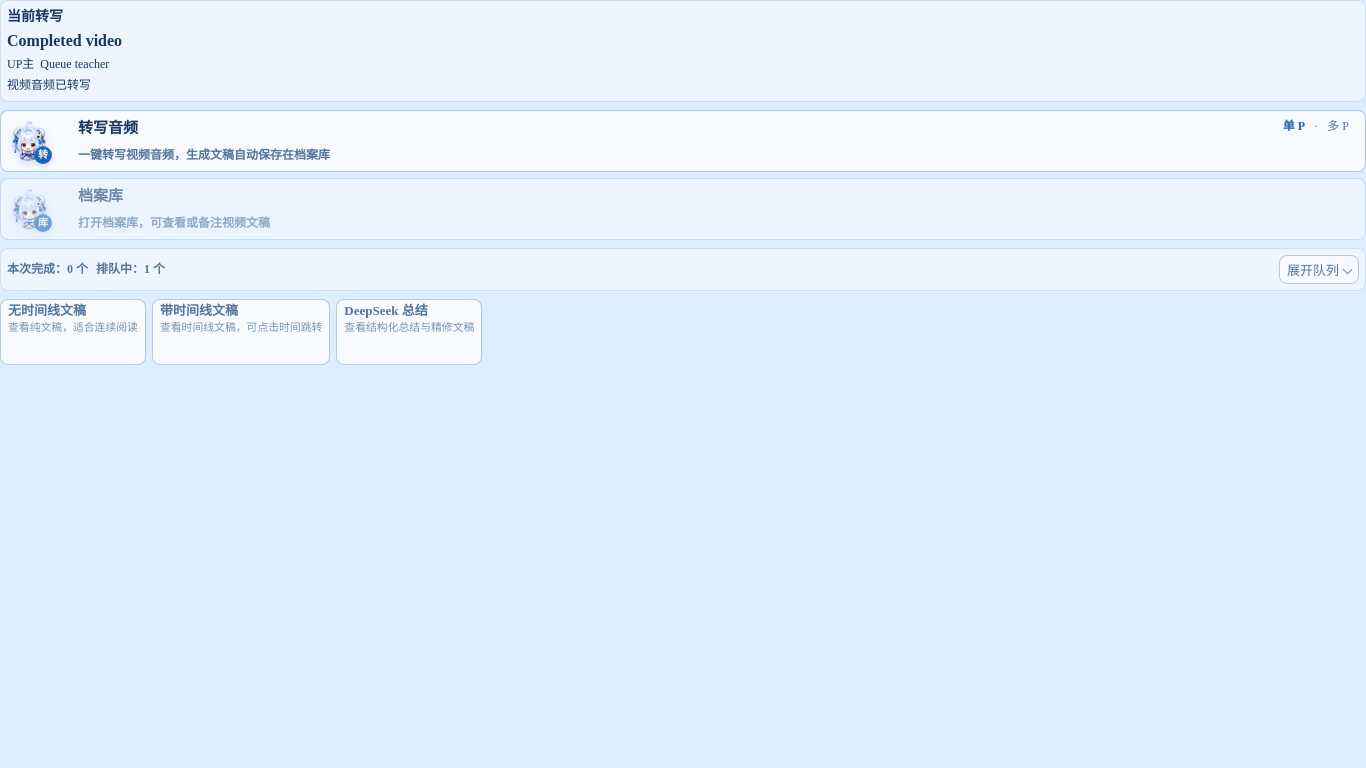
Test: VideoNotesPanel transcription queue › uses the shared video summary menu for queue batch actions and opens the export dialog directly
What coordinates should you click on to do the following:
click the button with aria-label "展开转写队列"
I would click on:
 (1319, 269)
Its box is x1=1279 y1=255 x2=1359 y2=284.
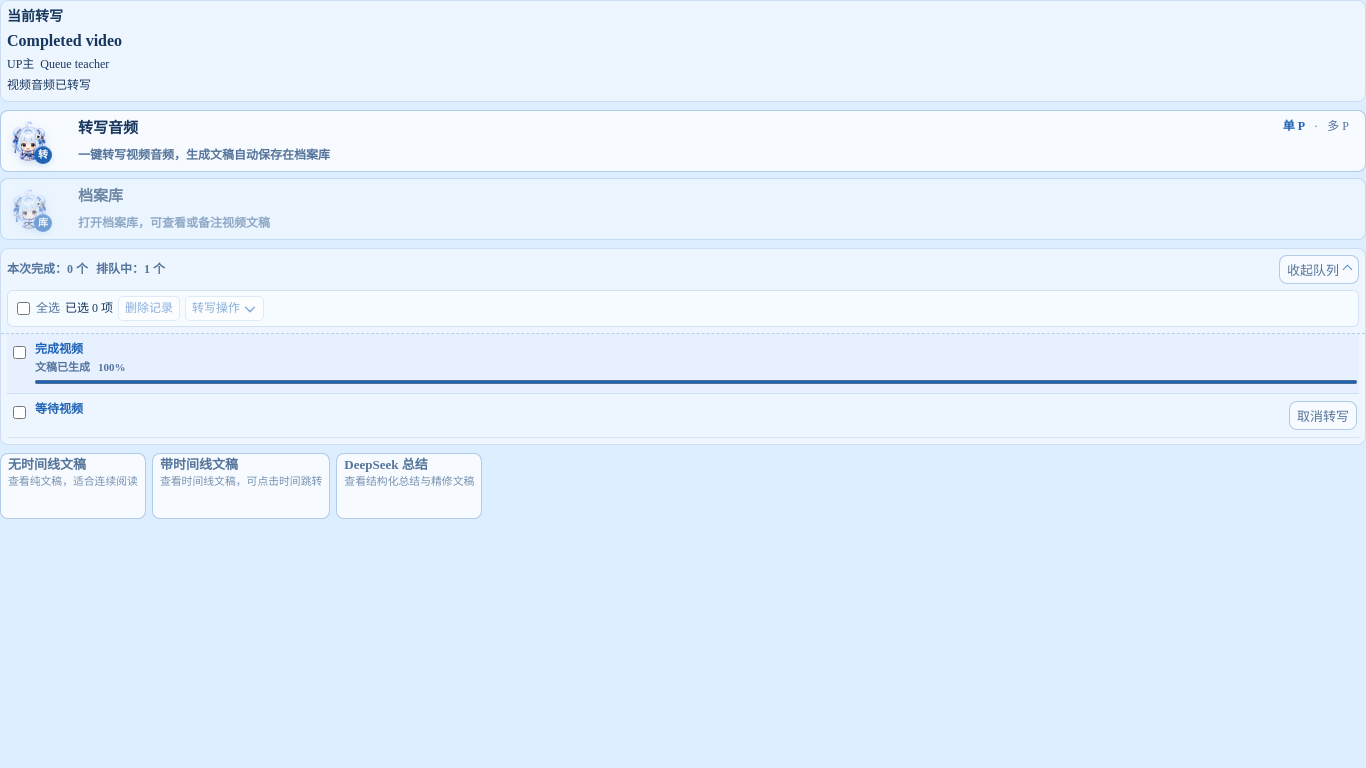
What coordinates should you click on to do the following:
click the checkbox named "选择 等待视频"
I would click on:
 (20, 413)
Its box is x1=13 y1=406 x2=26 y2=419.
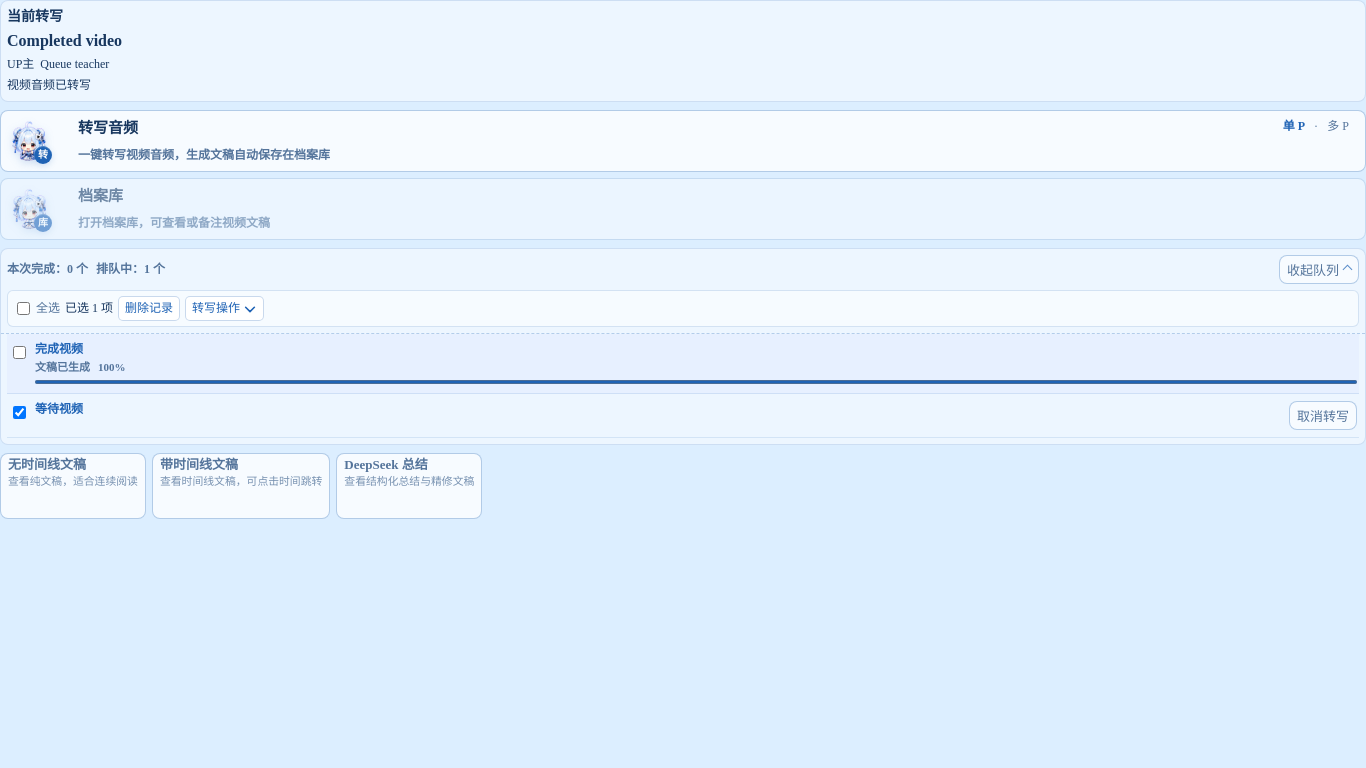
What coordinates should you click on to do the following:
click the checkbox named "选择 完成视频"
I would click on:
 (20, 353)
Its box is x1=13 y1=346 x2=26 y2=359.
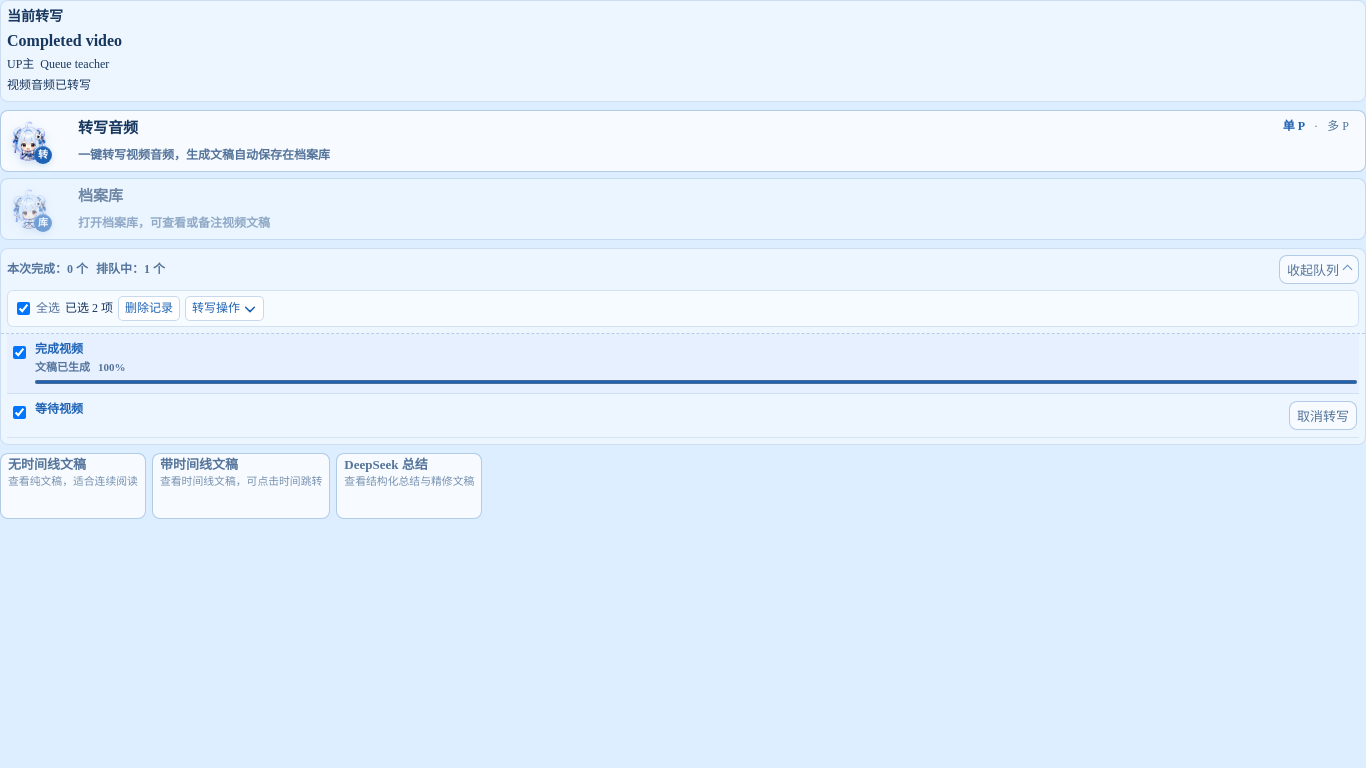
Expected: the button "导出文稿" is not shown
What coordinates should you click on to do the following:
click the button "转写操作"
I would click on:
 (225, 309)
Its box is x1=185 y1=296 x2=264 y2=321.
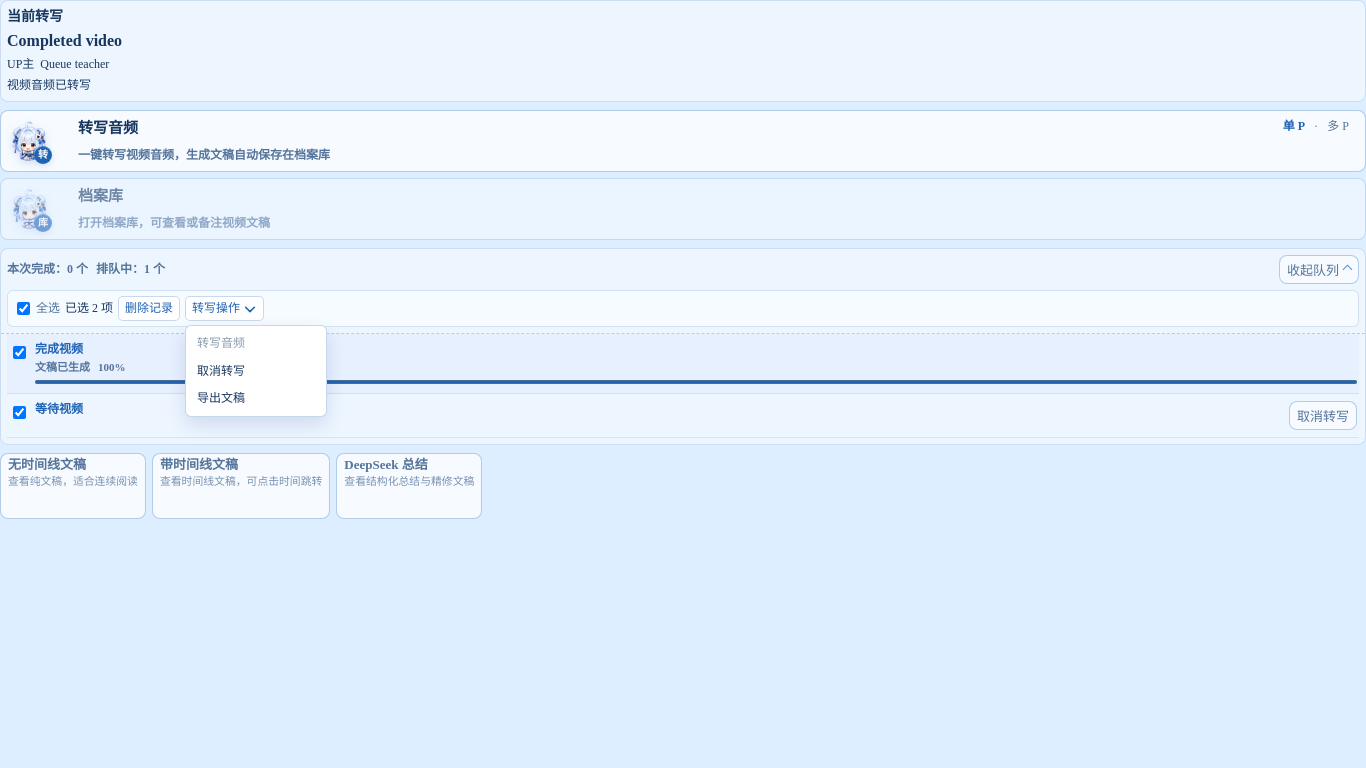
Now the menu items read "转写音频", "取消转写", "导出文稿", in this order
Now the menu item "取消转写" is enabled, box x1=190 y1=358 x2=322 y2=385
What coordinates should you click on to do the following:
click the menu item "导出文稿"
I would click on:
 (256, 399)
Its box is x1=190 y1=385 x2=322 y2=412.
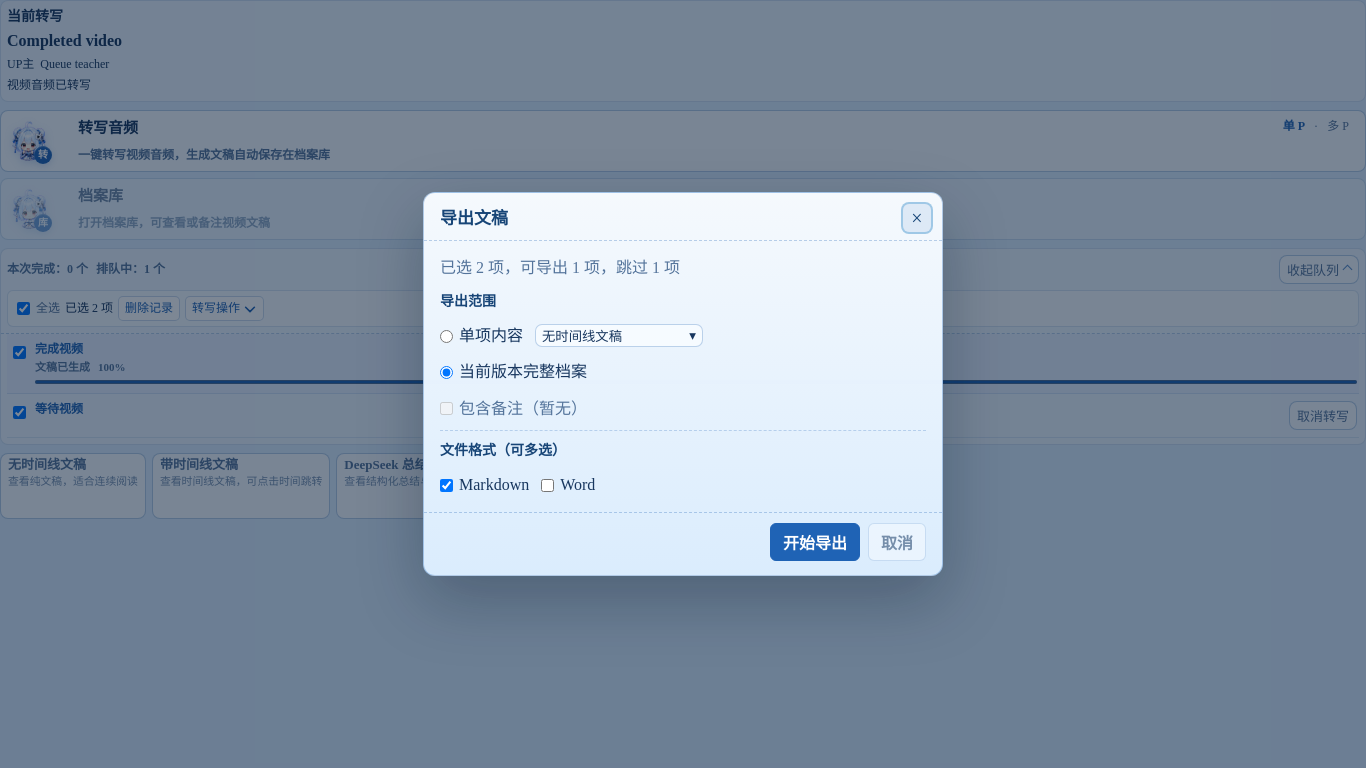
Now the dialog "导出文稿" shows "已选 2 项，可导出 1 项，跳过 1 项", box x1=440 y1=259 x2=680 y2=276
